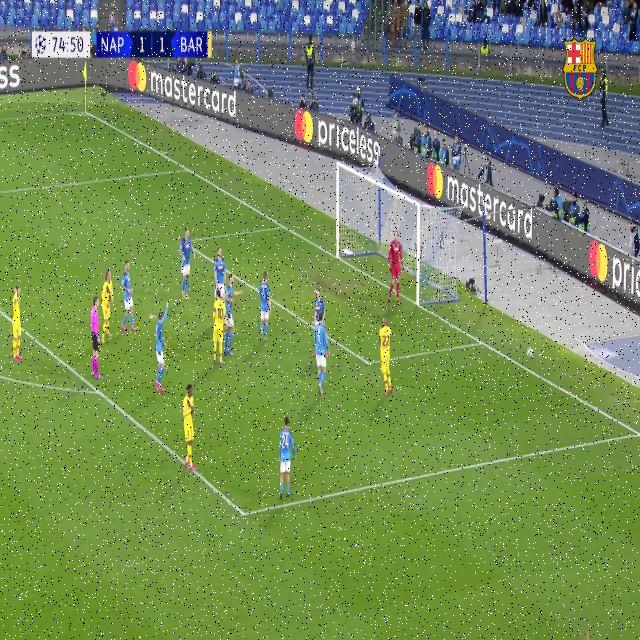Ball: (525, 343, 537, 366)
GoalKeeper: (387, 232, 407, 309)
TEAM 1: (182, 383, 200, 473), (379, 317, 395, 398), (10, 283, 24, 362), (212, 291, 226, 368), (101, 265, 115, 341)
TEAM 2: (312, 307, 332, 399), (278, 417, 297, 502), (154, 304, 170, 394), (180, 227, 198, 300), (120, 259, 137, 334), (256, 270, 271, 344), (226, 275, 238, 357), (215, 240, 229, 294), (312, 288, 326, 330)
